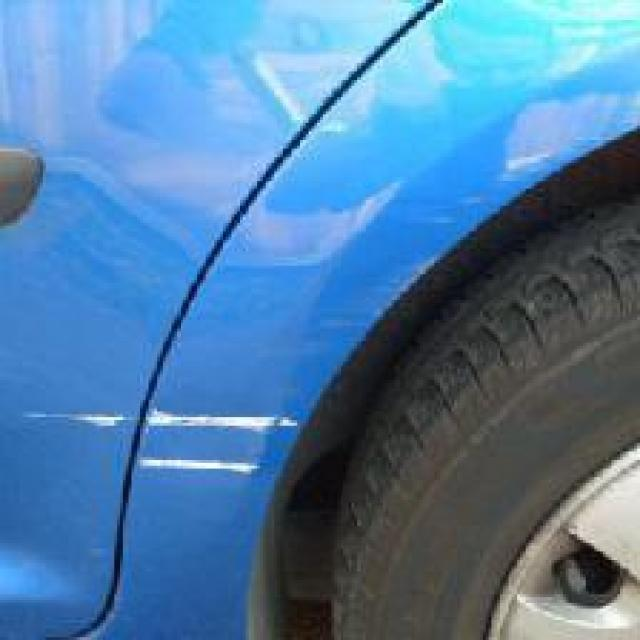damaged: (20, 408, 306, 486)
